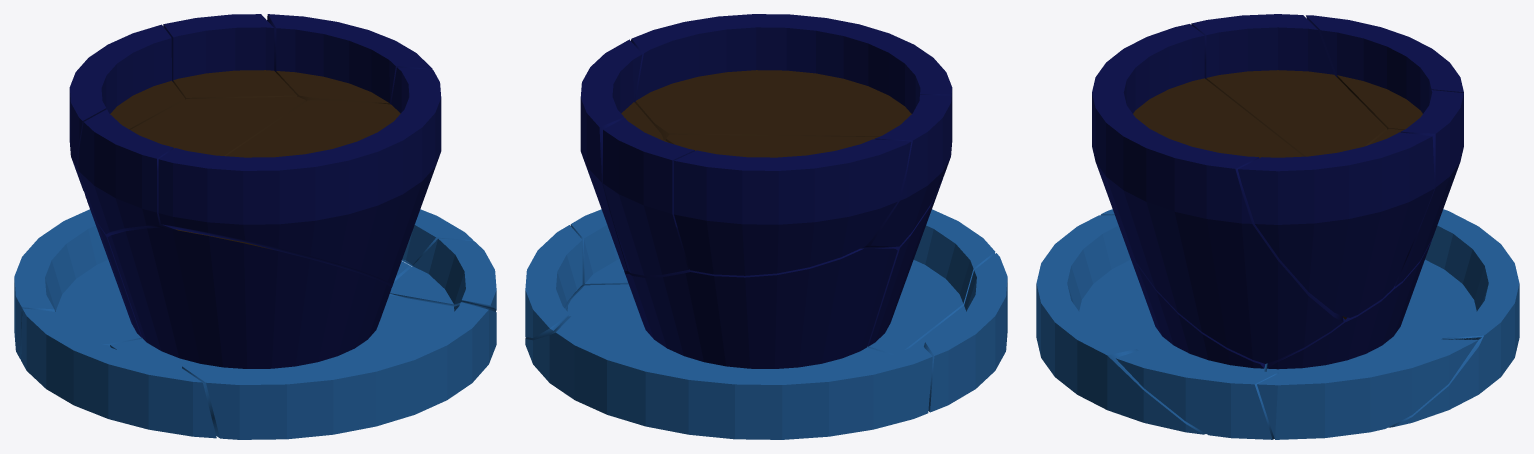
The model's file is PotBrise.fbx.
3 views of the same model, side by side, from view 1: azimuth 30°, elevation 25°; view 2: azimuth 150°, elevation 25°; view 3: azimuth 270°, elevation 25° (orthographic).
Visible parts, largest first — view 1: PotBrise_cell_07, PotBrise_cell_04, PotBrise_cell_02, PotBrise_cell_06, PotBrise_cell_03, PotBrise_cell_05, PotBrise_cell_00, PotBrise_cell_01, PotBrise_cell_08, PotBrise_cell_09; view 2: PotBrise_cell_03, PotBrise_cell_04, PotBrise_cell_01, PotBrise_cell_07, PotBrise_cell_02, PotBrise_cell_00, PotBrise_cell_06, PotBrise_cell_05, PotBrise_cell_09, PotBrise_cell_08; view 3: PotBrise_cell_04, PotBrise_cell_05, PotBrise_cell_07, PotBrise_cell_03, PotBrise_cell_02, PotBrise_cell_09, PotBrise_cell_01, PotBrise_cell_08, PotBrise_cell_00.
Boxes of the visible parts, x1,y1,x2,y2 form: PotBrise_cell_07: (107, 227, 496, 439); PotBrise_cell_04: (158, 67, 441, 287); PotBrise_cell_02: (77, 96, 305, 235); PotBrise_cell_06: (21, 308, 216, 438); PotBrise_cell_03: (14, 200, 411, 359); PotBrise_cell_05: (267, 14, 432, 104); PotBrise_cell_00: (163, 14, 297, 99); PotBrise_cell_01: (69, 24, 184, 190); PotBrise_cell_08: (390, 238, 496, 311); PotBrise_cell_09: (402, 209, 473, 266); PotBrise_cell_03: (525, 248, 932, 439); PotBrise_cell_04: (631, 14, 952, 146); PotBrise_cell_01: (674, 139, 911, 275); PotBrise_cell_07: (867, 179, 995, 354); PotBrise_cell_02: (665, 95, 951, 248); PotBrise_cell_00: (603, 118, 694, 275); PotBrise_cell_06: (910, 253, 1007, 412); PotBrise_cell_05: (580, 39, 663, 271); PotBrise_cell_09: (525, 225, 582, 337); PotBrise_cell_08: (570, 209, 628, 287); PotBrise_cell_04: (1092, 24, 1343, 363); PotBrise_cell_05: (1238, 132, 1434, 317); PotBrise_cell_07: (1036, 215, 1267, 434); PotBrise_cell_03: (1266, 209, 1519, 427); PotBrise_cell_02: (1191, 14, 1387, 319); PotBrise_cell_09: (1257, 337, 1481, 439); PotBrise_cell_01: (1306, 15, 1463, 129); PotBrise_cell_08: (1115, 350, 1278, 439); PotBrise_cell_00: (1370, 90, 1463, 286).
Bounding box in the file's own units: 40 × 22.43 × 40.
